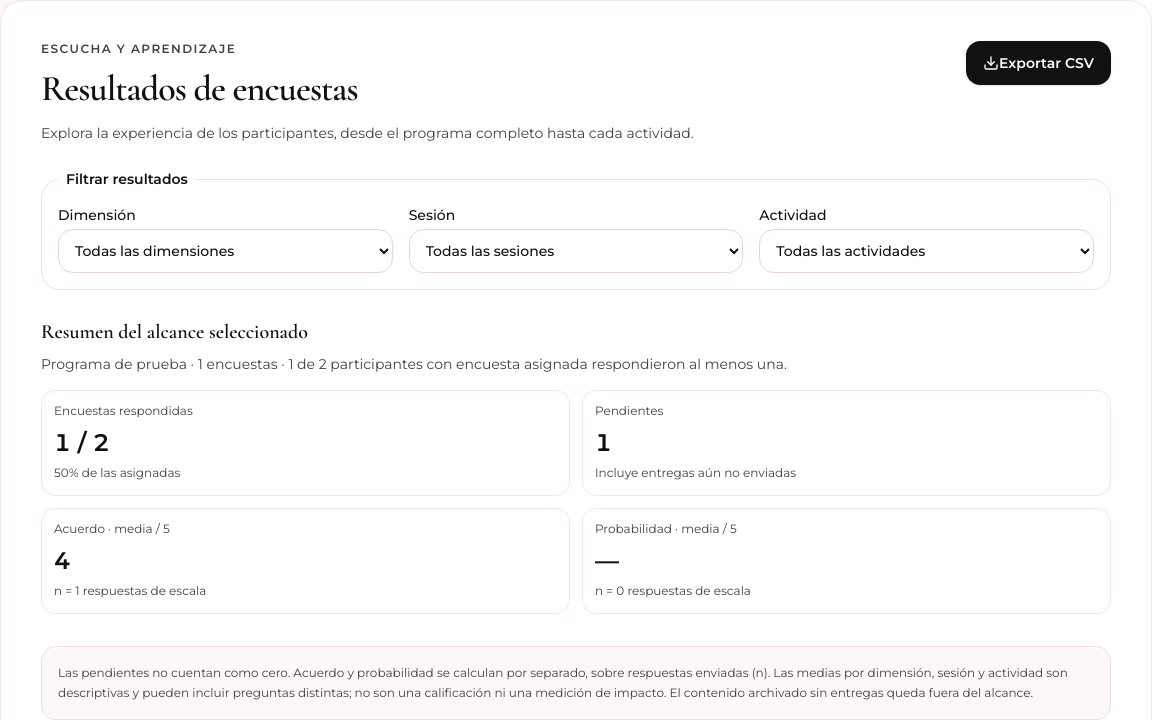
Test: downloads an authenticated CSV and warns about personal data
Select "Sesión uno · Reflexión" in the dropdown labelled "Actividad". click: x=927, y=251
box: [759,229,1094,273]
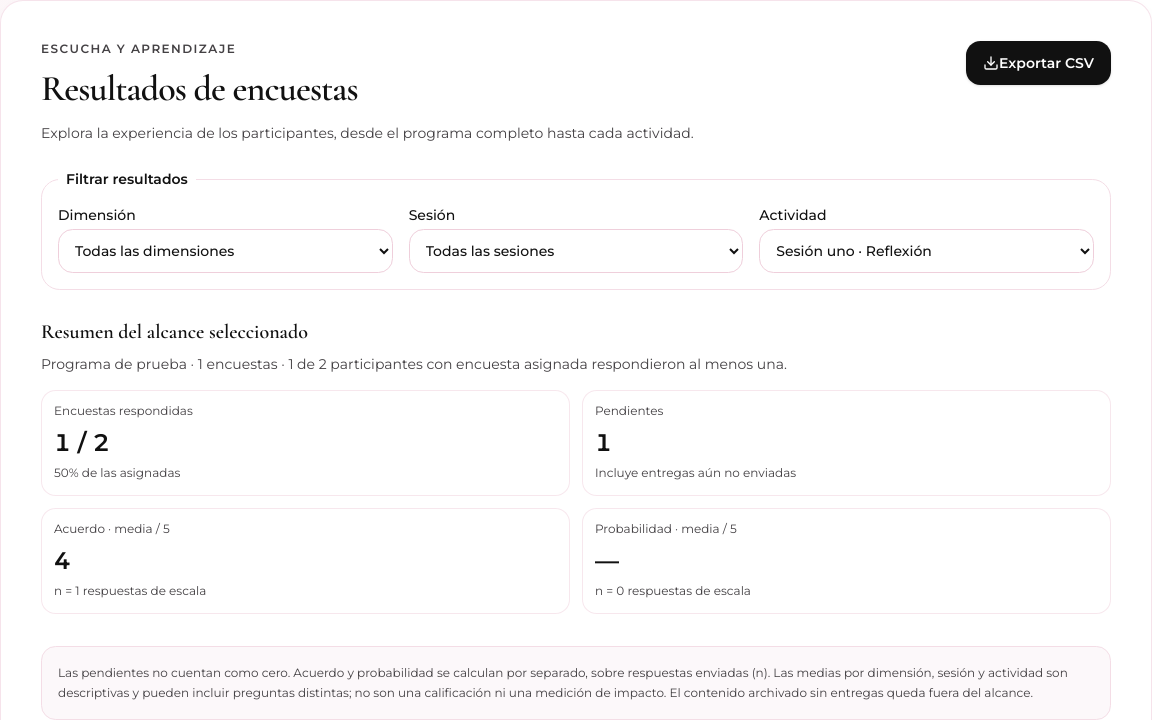
Click the button "Exportar CSV". click: x=1038, y=63
box: [966,41,1111,85]
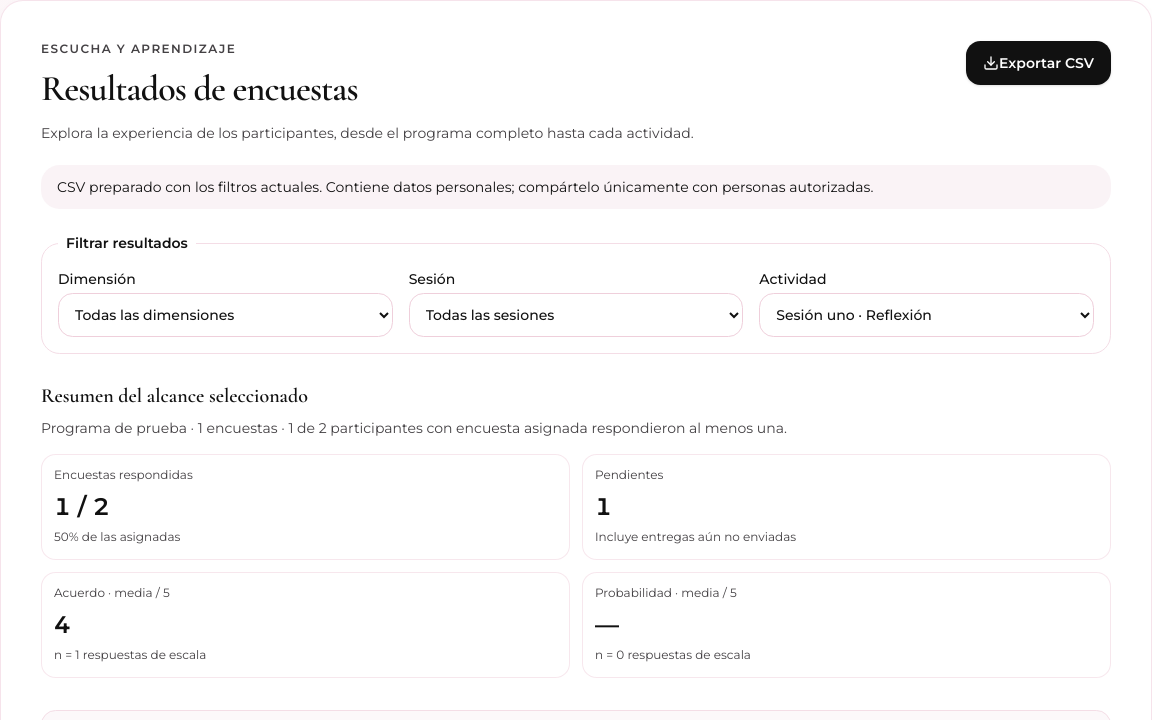
Expected: the text "CSV preparado con los filtros actuales" is shown, [57,178,873,196]
